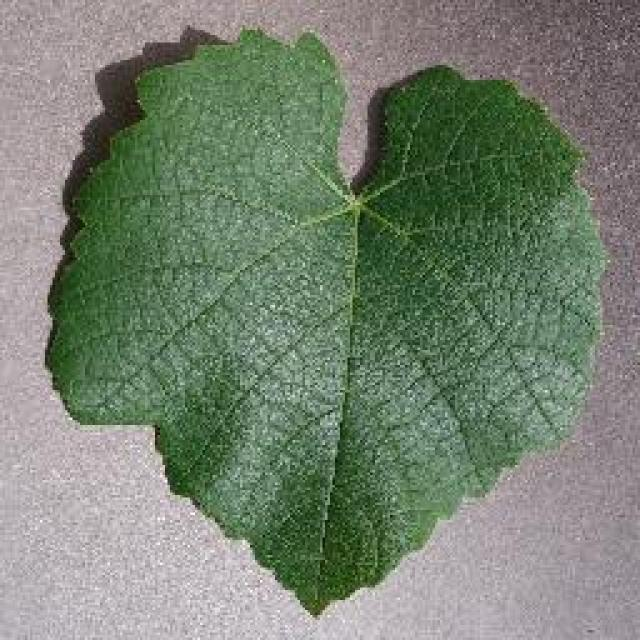Grape___healthy: (50, 30, 605, 615)
